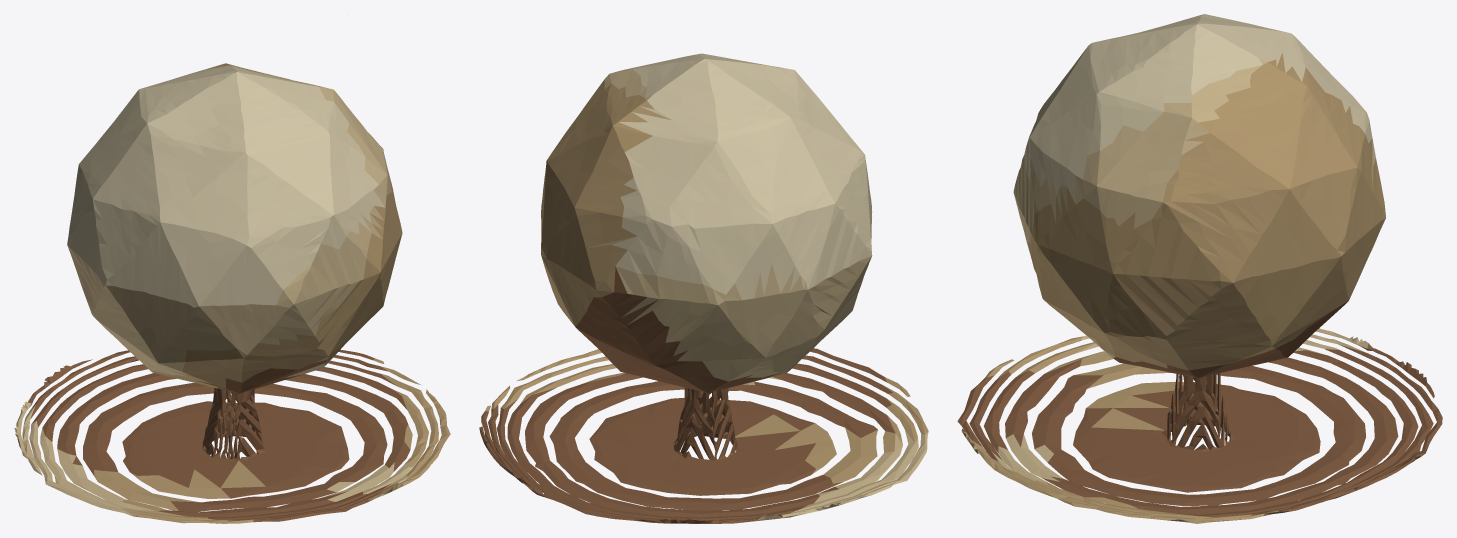
Rendered from tree_cream.glb.
The picture shows the model from 3 angles, left to right: view 1: azimuth 30°, elevation 25°; view 2: azimuth 150°, elevation 25°; view 3: azimuth 270°, elevation 25°; orthographic projection. The views are drawn at different scales.
Visible parts, largest first — view 1: geometry_0; view 2: geometry_0; view 3: geometry_0.
Boxes of the visible parts, x1,y1,x2,y2 form: geometry_0: (14, 63, 450, 523); geometry_0: (479, 53, 928, 523); geometry_0: (957, 14, 1442, 523).
Size of the model in its own units: 1.98 by 1.98 by 1.98.
